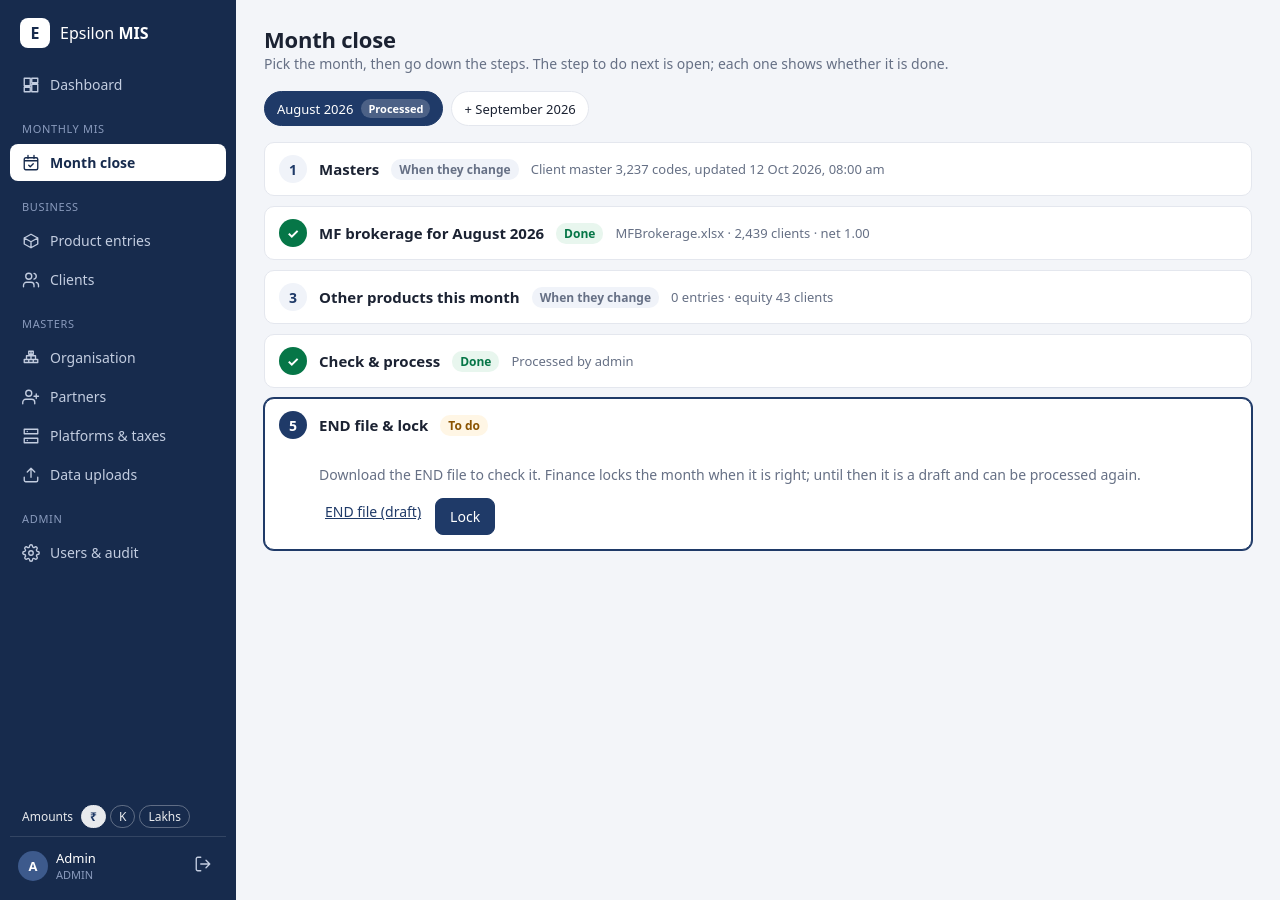
it: this month › opens the next month as a new month: its MF file first, the later steps after it
The image size is (1280, 900).
Expected: the link "END file (draft)" is shown, [325,502,421,521]
Click the tab "+ September 2026".
click(520, 108)  # box [452,91,589,126]
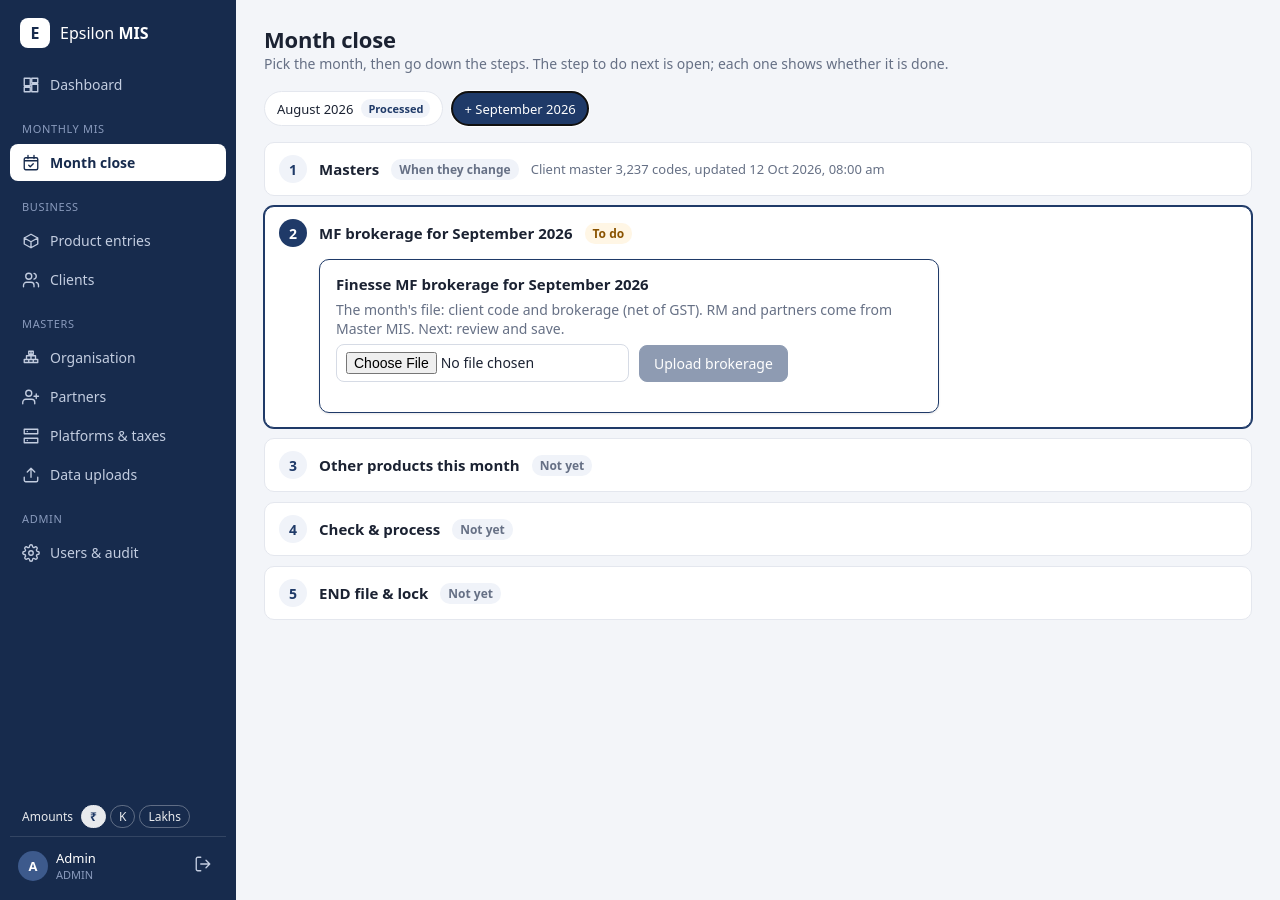
Expected: the text "Not yet" is shown 3 times, [532,454,592,476]; [452,518,513,540]; [440,582,501,604]
Expected: the heading "Finesse MF brokerage for September 2026" is shown, [336,274,649,294]
